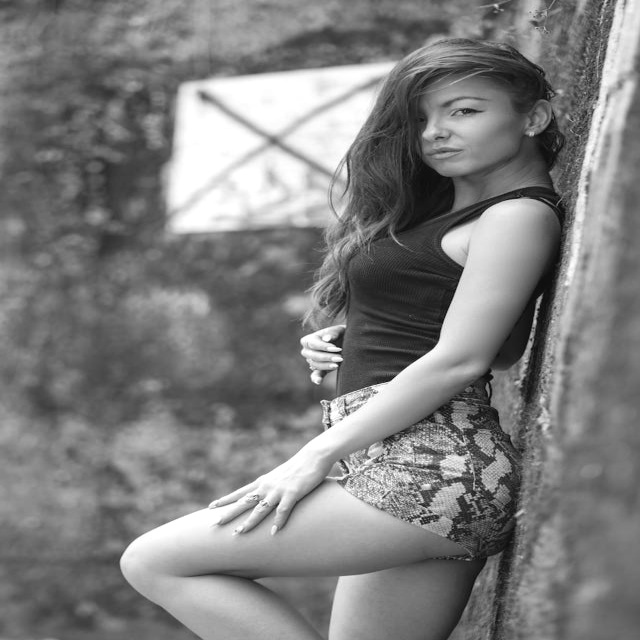foam_scum: (121, 199, 534, 581), (167, 62, 394, 233), (547, 0, 640, 380)
oil_spill: (337, 49, 587, 640)
turbid_water: (13, 13, 627, 627)
